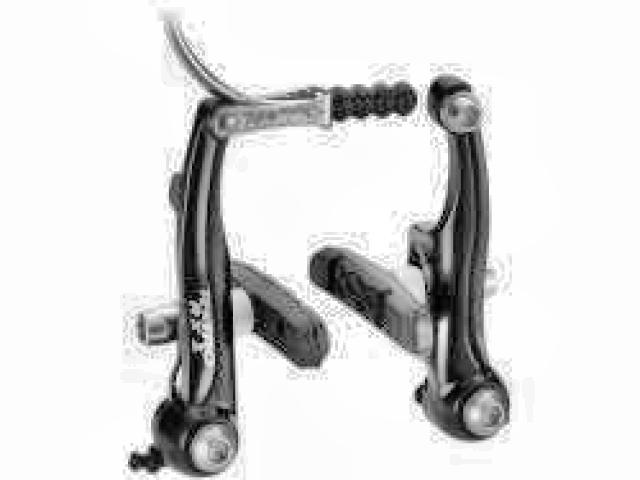rim_brake: (132, 77, 512, 478)
